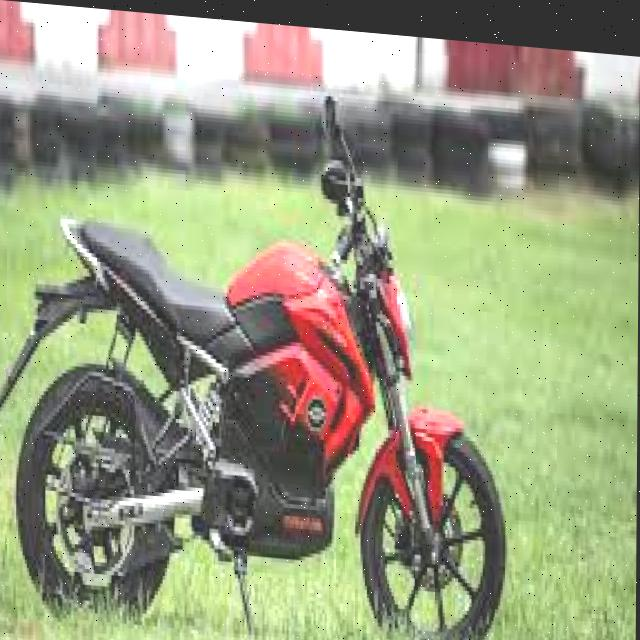bike: (3, 110, 508, 640)
